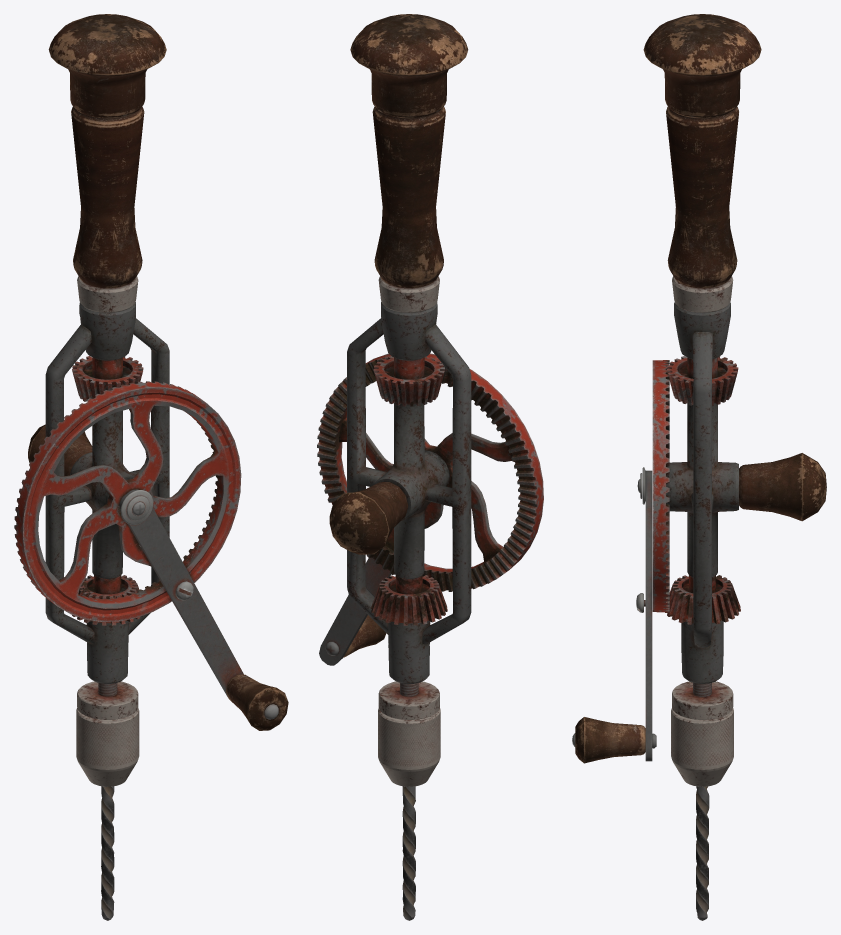
Rendered from vintage_hand_drill_1k.gltf.
3 renders of one model, left to right at view 1: azimuth 30°, elevation 25°; view 2: azimuth 150°, elevation 25°; view 3: azimuth 270°, elevation 25°, orthographic.
Visible parts, largest first — view 1: vintage_hand_drill, vintage_hand_drill_crank, vintage_hand_drill_head, vintage_hand_drill_cog1, vintage_hand_drill_cog2; view 2: vintage_hand_drill, vintage_hand_drill_crank, vintage_hand_drill_head, vintage_hand_drill_cog2, vintage_hand_drill_cog1; view 3: vintage_hand_drill, vintage_hand_drill_crank, vintage_hand_drill_head, vintage_hand_drill_cog2, vintage_hand_drill_cog1.
Part boxes in pixels (<box>): vintage_hand_drill: <box>28,14,169,683</box>; vintage_hand_drill_crank: <box>14,381,288,730</box>; vintage_hand_drill_head: <box>76,681,139,920</box>; vintage_hand_drill_cog1: <box>72,356,143,401</box>; vintage_hand_drill_cog2: <box>72,575,142,625</box>; vintage_hand_drill: <box>329,14,471,683</box>; vintage_hand_drill_crank: <box>317,353,543,665</box>; vintage_hand_drill_head: <box>378,681,440,920</box>; vintage_hand_drill_cog2: <box>371,575,447,625</box>; vintage_hand_drill_cog1: <box>373,356,444,406</box>; vintage_hand_drill: <box>643,14,826,683</box>; vintage_hand_drill_crank: <box>572,360,669,763</box>; vintage_hand_drill_head: <box>671,681,733,920</box>; vintage_hand_drill_cog2: <box>665,575,740,624</box>; vintage_hand_drill_cog1: <box>666,356,738,405</box>.
Size of the model in its own units: 0.1312 by 0.4857 by 0.1251.
Materials: 1 (1 with a texture image).
